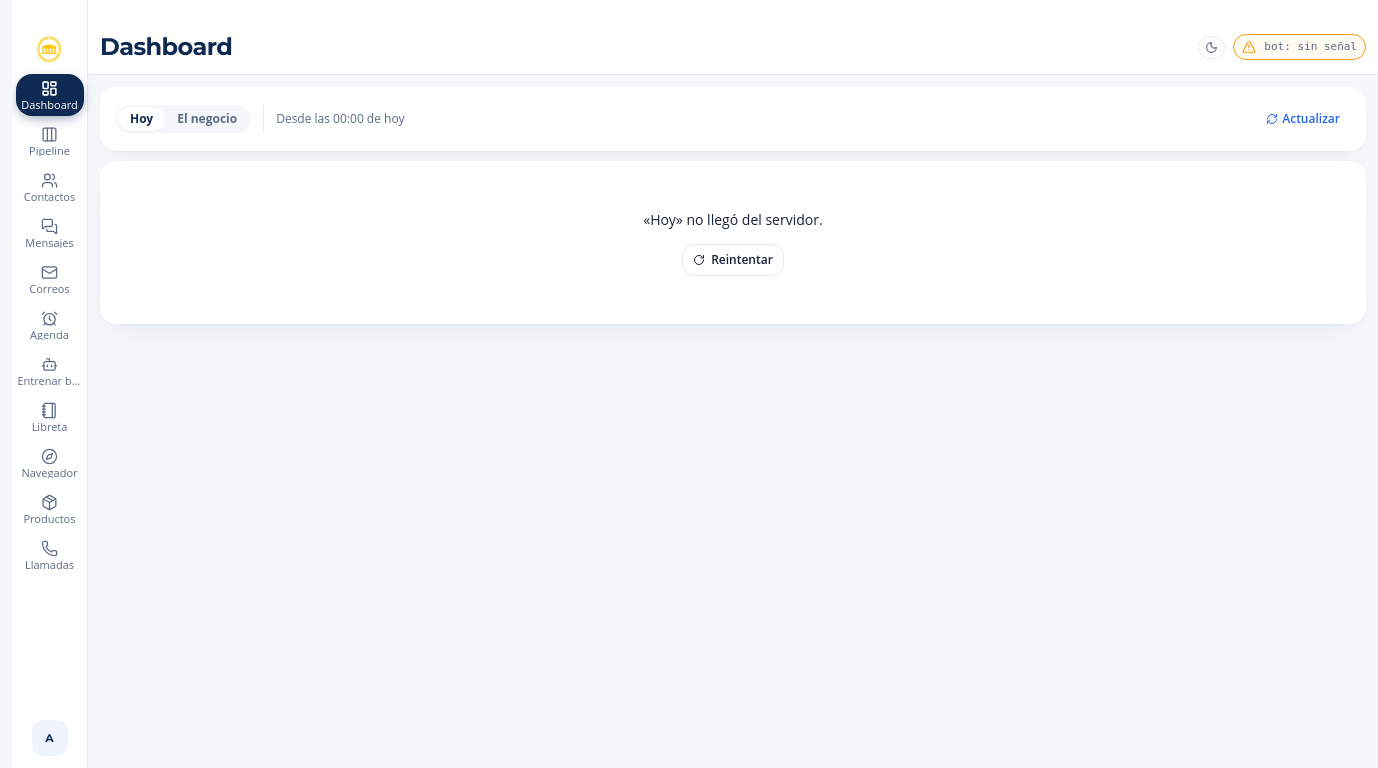
Test case: Productos, el catálogo de Cerberus › se abre desde el riel y monta la vista de verdad
Click the button "Productos" at (50, 509), box [16,488,84,530]
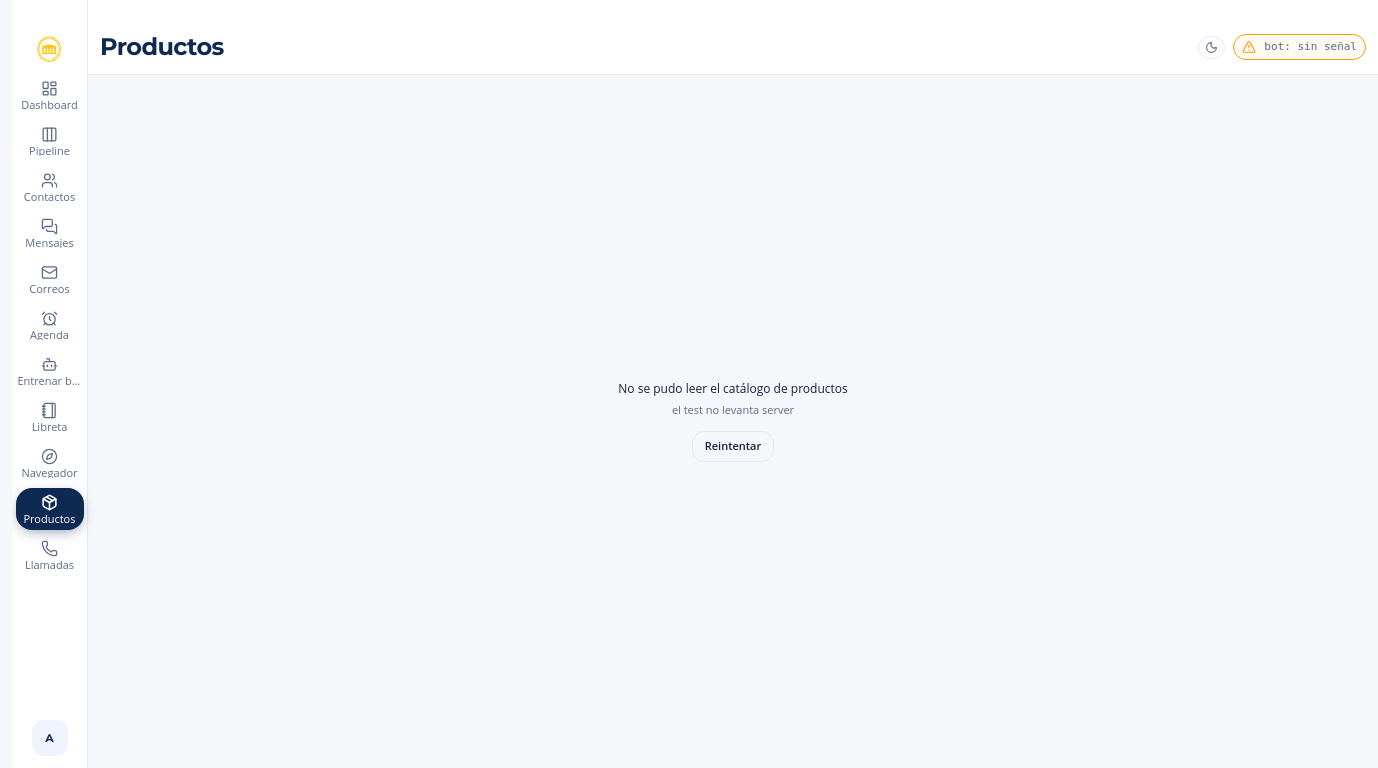
Expected: the text "Productos" is shown, [22,513,78,524]
Expected: the text "No se pudo leer el catálogo de productos" is shown, [618,381,848,397]
